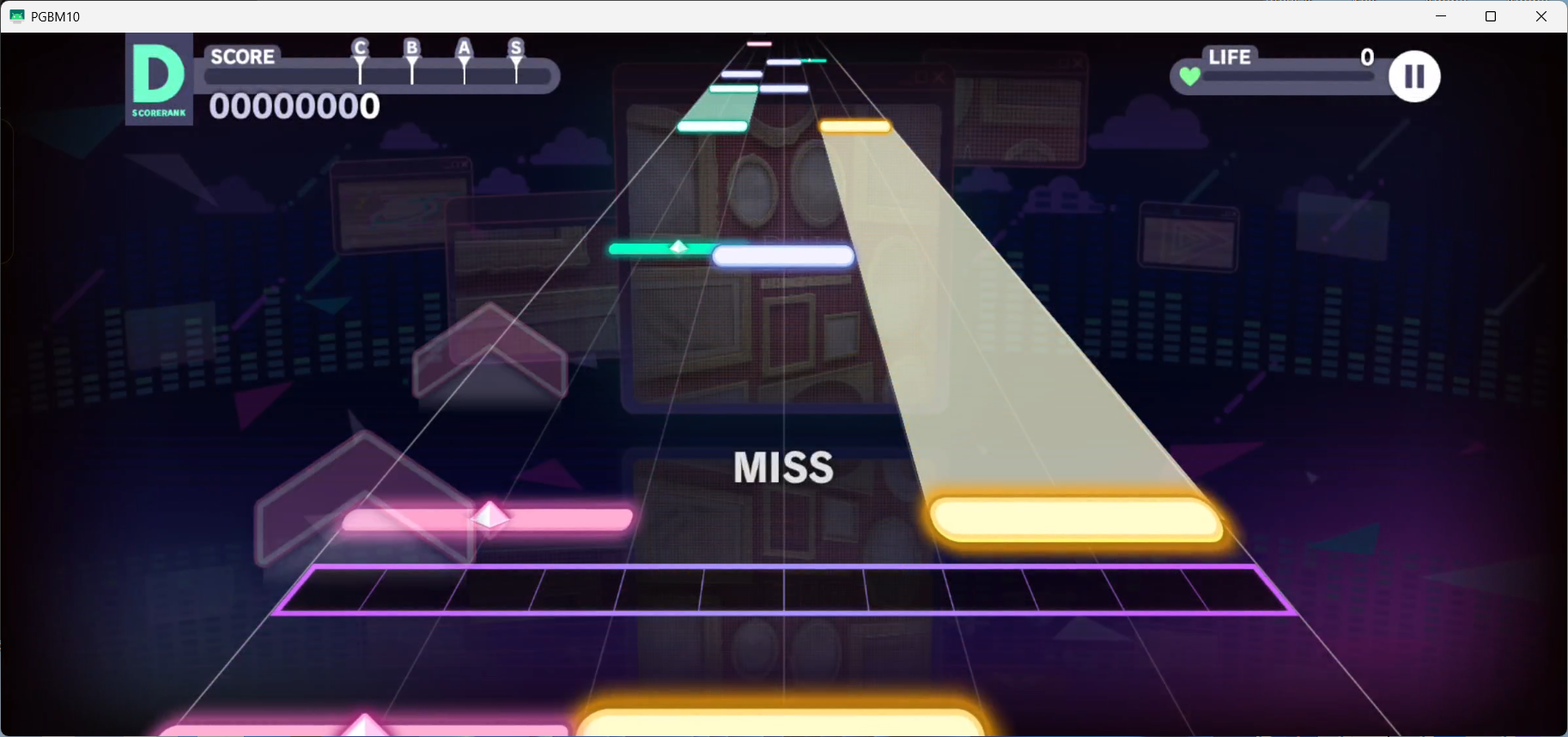flick: (257, 432, 475, 568), (415, 303, 566, 417)
hold: (821, 132, 1194, 494), (681, 94, 757, 120)
sweep: (154, 709, 568, 737), (608, 239, 717, 256), (801, 57, 827, 63)
tap: (927, 497, 1229, 544), (574, 704, 984, 737), (340, 499, 633, 532), (711, 244, 854, 266), (820, 120, 890, 132), (678, 120, 747, 131), (708, 84, 758, 94), (760, 85, 809, 93), (720, 70, 763, 77), (766, 58, 801, 64), (746, 42, 771, 46)
